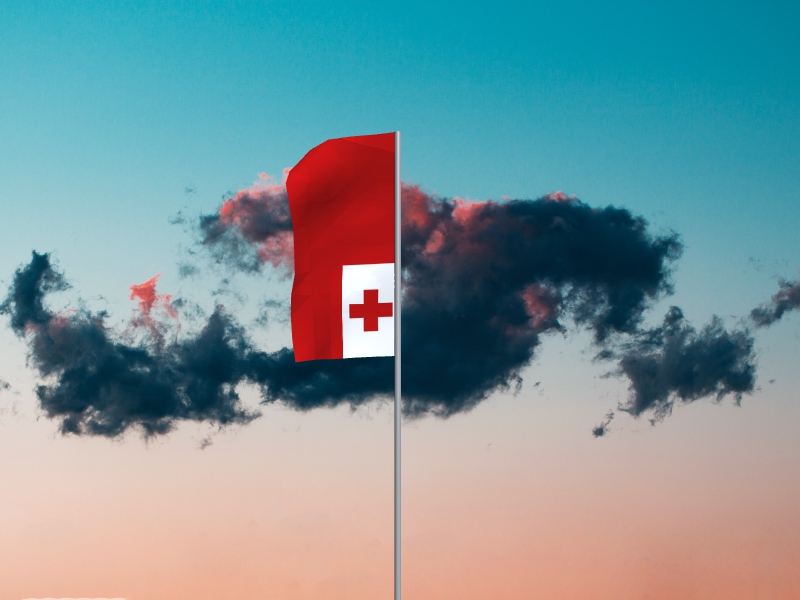to: (286, 133, 395, 364)
